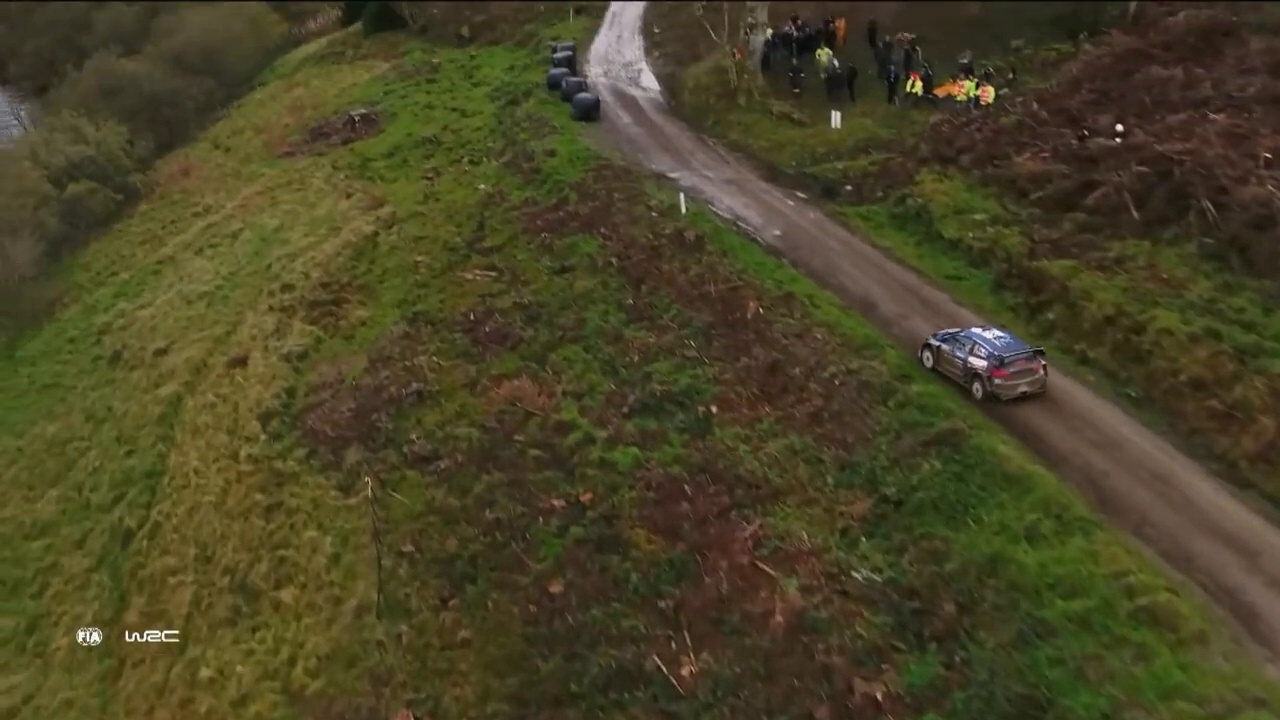araba: (920, 324, 1052, 405)
